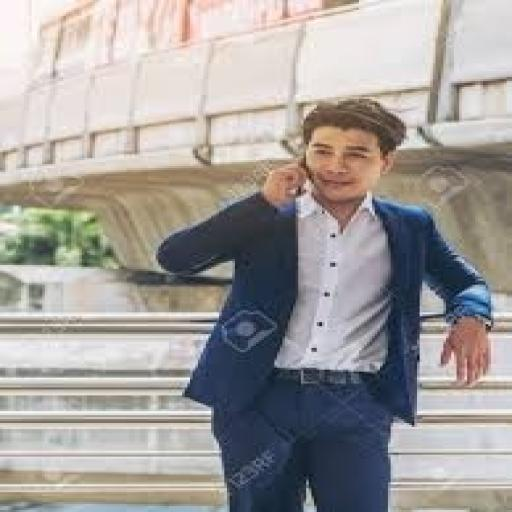texting: (153, 95, 496, 510)
